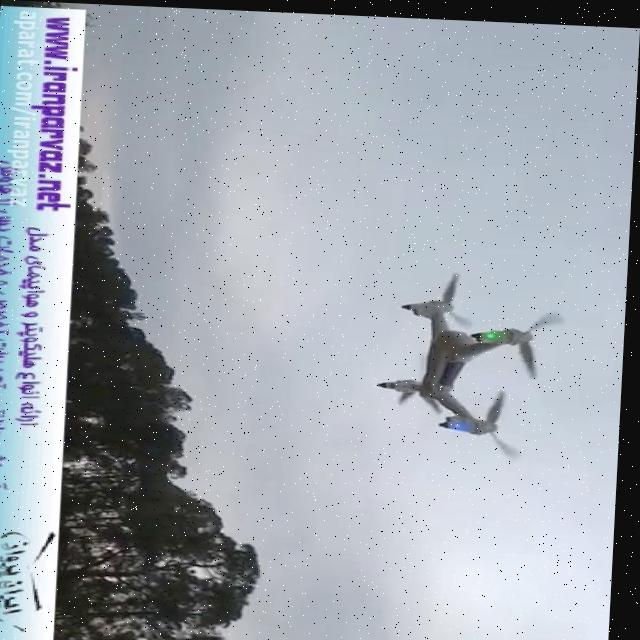drone: (376, 262, 578, 459)
